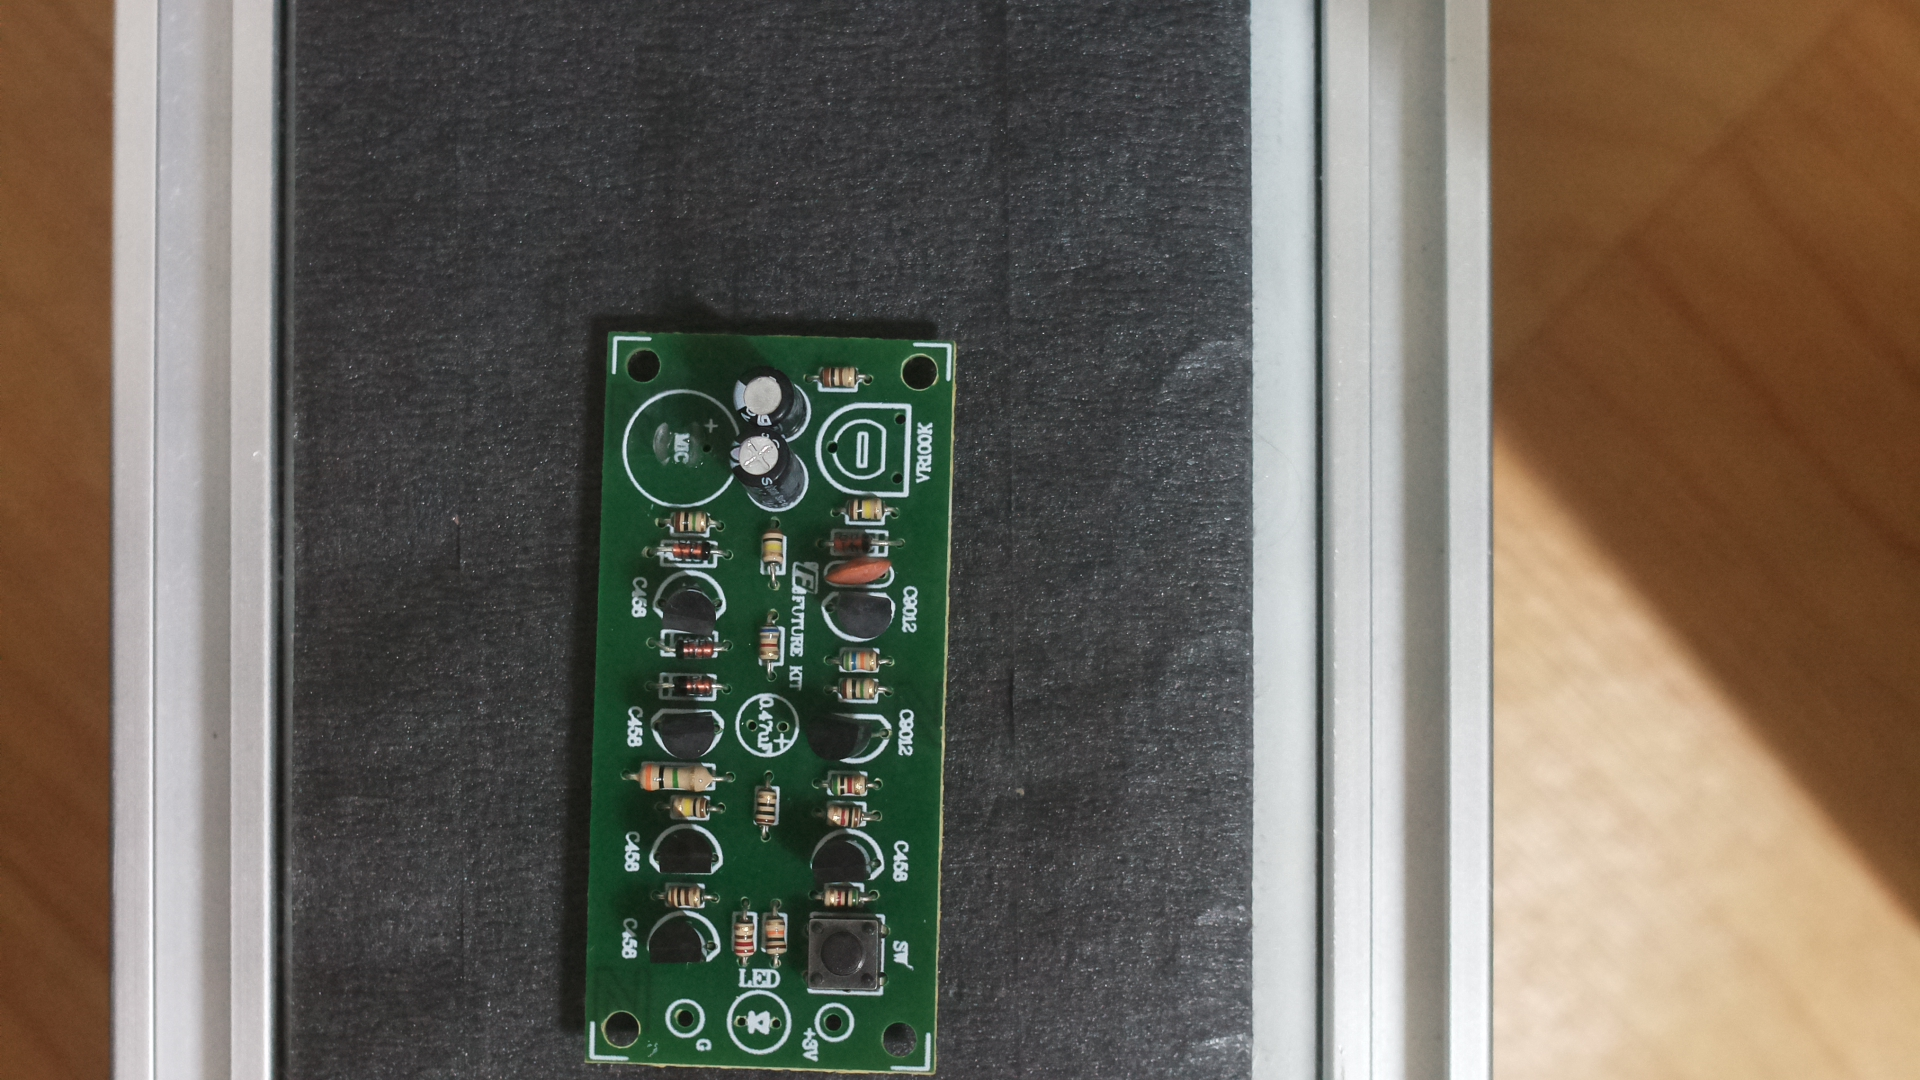A_Missing_part: (579, 307, 964, 1080)
